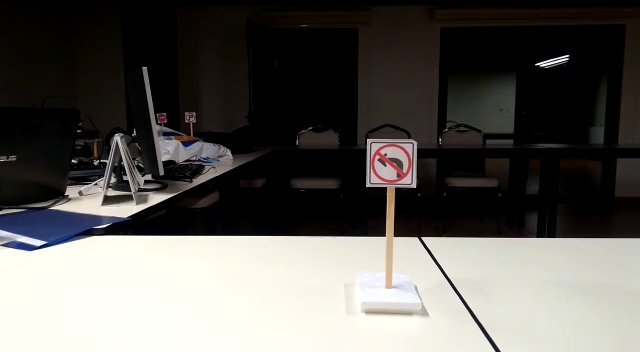sola_donulmez: (367, 144, 418, 189)
